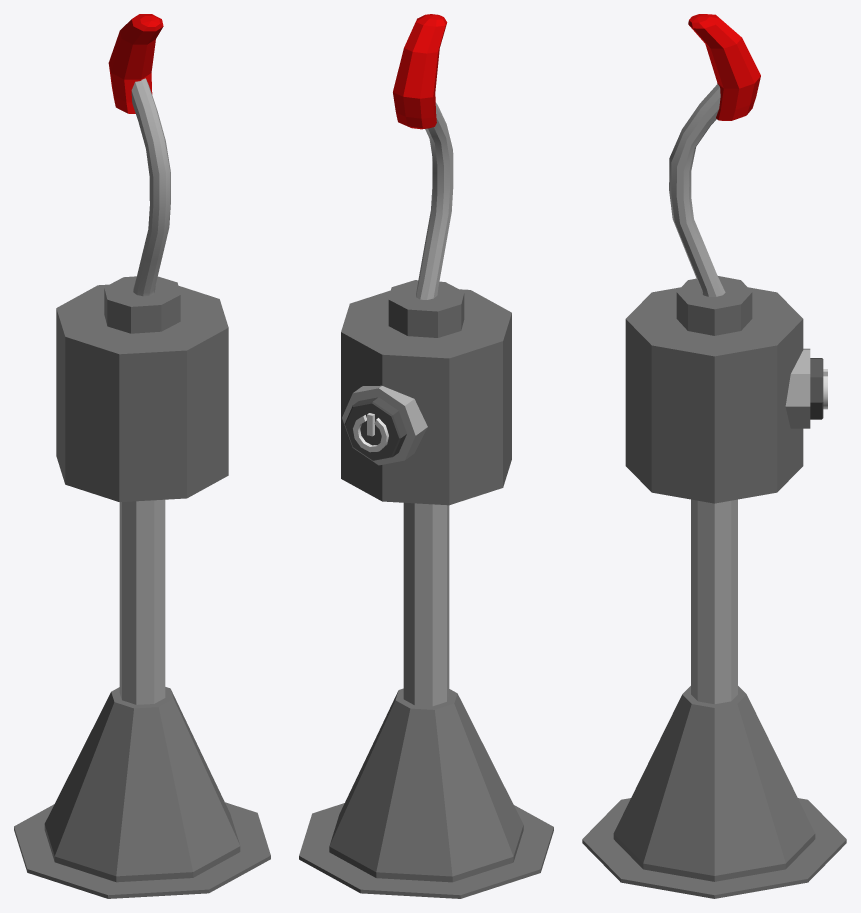
Rendered from ZeppelinSteeringMechanismV4.fbx.
The picture shows the model from 3 angles, left to right: view 1: azimuth 30°, elevation 25°; view 2: azimuth 150°, elevation 25°; view 3: azimuth 270°, elevation 25°; orthographic projection.
Visible parts, largest first — view 1: ZeppelinWheelStand, FlyingStick; view 2: ZeppelinWheelStand, FlyingStick, StartButton, Start; view 3: ZeppelinWheelStand, FlyingStick, Start, StartButton.
Part boxes in pixels (x1=…): ZeppelinWheelStand: x1=14, y1=276, x2=270, y2=898; FlyingStick: x1=108, y1=14, x2=170, y2=296; ZeppelinWheelStand: x1=299, y1=280, x2=553, y2=898; FlyingStick: x1=393, y1=14, x2=453, y2=299; StartButton: x1=344, y1=397, x2=406, y2=460; Start: x1=342, y1=385, x2=427, y2=465; ZeppelinWheelStand: x1=582, y1=276, x2=846, y2=898; FlyingStick: x1=669, y1=14, x2=760, y2=296; Start: x1=785, y1=348, x2=810, y2=428; StartButton: x1=810, y1=358, x2=827, y2=419.
Size of the model in its own units: 17.22 by 59.32 by 17.22.
